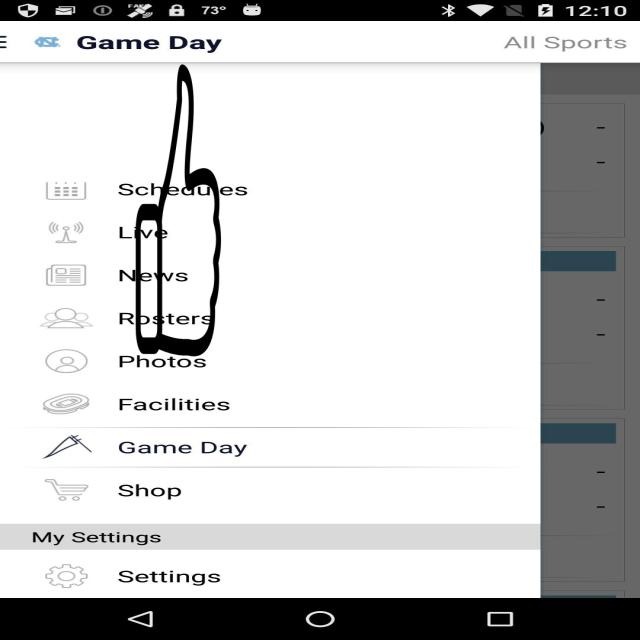privacy zuckering: (135, 65, 222, 356)
